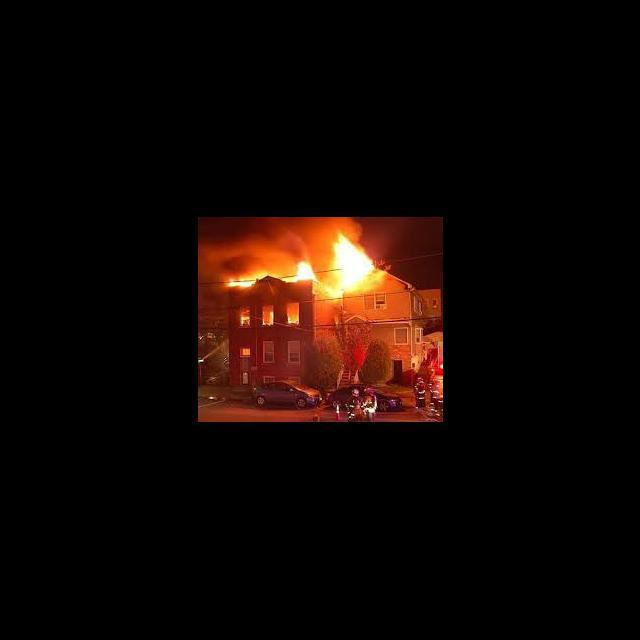Fire: (324, 230, 377, 300), (291, 259, 315, 283), (225, 274, 253, 289), (286, 302, 299, 324), (262, 304, 272, 326), (240, 307, 249, 326)
Smoke: (198, 220, 318, 258)
